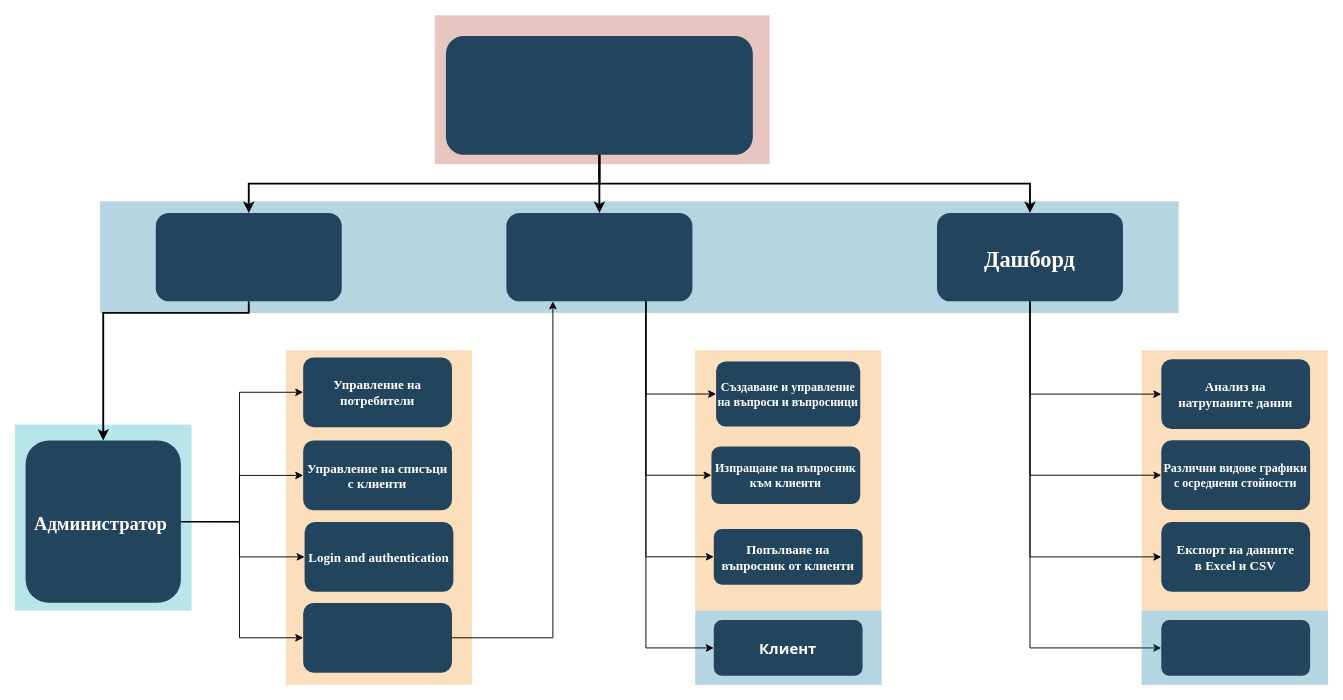
Some shapes in this 1343 by 700 pixel diagram are drawn without their labels. The centre of each missing label's shape, as x and y in pixels:
Data analyst: pixel 1235 647
Администрация: pixel 248 257
Въпросници: pixel 599 257
Портал за събиране и анализ на клиентско мнение и обратна връзка: pixel 598 95
Създаване на въпросник: pixel 377 637
